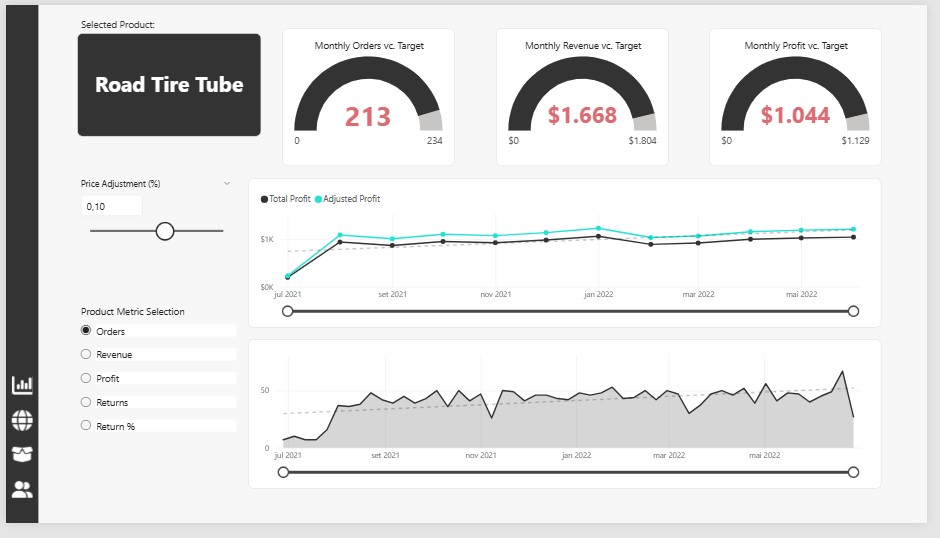

The dashboard page shown, as its layout file describes it:
{"tool":"powerbi","page":{"name":"Product Detail","canvas":[1280,720],"ordinal":2},"visuals":[{"type":"shape","box":[0,0,45,1080],"z":0},{"type":"actionButton","box":[0,496,48,64],"z":0,"group":"g1"},{"type":"gauge","title":"Monthly Orders vc. Target","fields":{"MaxValue":["Measure Table.Order Target"],"Y":["Measure Table.Total Orders"]},"box":[384,32,240,192],"z":1000},{"type":"actionButton","box":[0,544,48,64],"z":1000,"group":"g1"},{"type":"gauge","title":"Monthly Revenue vc. Target","fields":{"MaxValue":["Measure Table.Revenue Target"],"Y":["Measure Table.Total Revenue"]},"box":[680,32,240,192],"z":2000},{"type":"actionButton","box":[0,592,48,64],"z":2000,"group":"g1"},{"type":"gauge","title":"Monthly Profit vc. Target","fields":{"MaxValue":["Measure Table.Profit Target"],"Y":["Measure Table.Total Profit"]},"box":[976,32,240,192],"z":3000},{"type":"actionButton","box":[0,640,48,64],"z":3000,"group":"g1"},{"type":"lineChart","title":"Profit Trending","fields":{"Category":["Calendar Lookup.Date Hierarchy.Start of Year","Calendar Lookup.Date Hierarchy.Start of Month","Calendar Lookup.Date Hierarchy.Start of Week","Calendar Lookup.Date Hierarchy.Date"],"Y":["Measure Table.Total Profit","Measure Table.Adjusted Profit"]},"box":[336,240,880,208],"z":4000},{"type":"areaChart","title":"Returns Trending","fields":{"Category":["Calendar Lookup.Date Hierarchy.Start of Year","Calendar Lookup.Date Hierarchy.Start of Month","Calendar Lookup.Date Hierarchy.Start of Week","Calendar Lookup.Date Hierarchy.Date"],"Y":["Measure Table.Return Rate"]},"box":[336,464,880,208],"z":5000},{"type":"card","fields":{"Values":["Min(Product Lookup.ProductName)"]},"box":[99,38.2,256,144],"z":6000},{"type":"textbox","box":[104,16,128,32],"z":7000},{"type":"group","id":"g1","title":"Navigation Buttons","box":[0,496,48,208],"z":8000},{"type":"slicer","fields":{"Values":["Price Adjustment (%).Price Adjustment (%)"]},"box":[96,240,224,128],"z":9000},{"type":"slicer","fields":{"Values":["Product Metric Selection.Product Metric Selection"]},"box":[96,416,224,192],"z":10000}]}

Visuals, with their boxes on the page's 1280x720 design canvas (x1, y1, x2, y2). These are canvas units, not pixel positions in the 940x538 screenshot, which may show the page scaled, cropped or inside an application window:
shape: BBox(0, 0, 45, 1080)
actionButton: BBox(0, 496, 48, 560)
"Monthly Orders vc. Target" gauge: BBox(384, 32, 624, 224)
actionButton: BBox(0, 544, 48, 608)
"Monthly Revenue vc. Target" gauge: BBox(680, 32, 920, 224)
actionButton: BBox(0, 592, 48, 656)
"Monthly Profit vc. Target" gauge: BBox(976, 32, 1216, 224)
actionButton: BBox(0, 640, 48, 704)
"Profit Trending" lineChart: BBox(336, 240, 1216, 448)
"Returns Trending" areaChart: BBox(336, 464, 1216, 672)
card - Min(Product Lookup.ProductName): BBox(99, 38, 355, 182)
textbox: BBox(104, 16, 232, 48)
"Navigation Buttons" group: BBox(0, 496, 48, 704)
slicer - Price Adjustment (%).Price Adjustment (%): BBox(96, 240, 320, 368)
slicer - Product Metric Selection.Product Metric Selection: BBox(96, 416, 320, 608)
